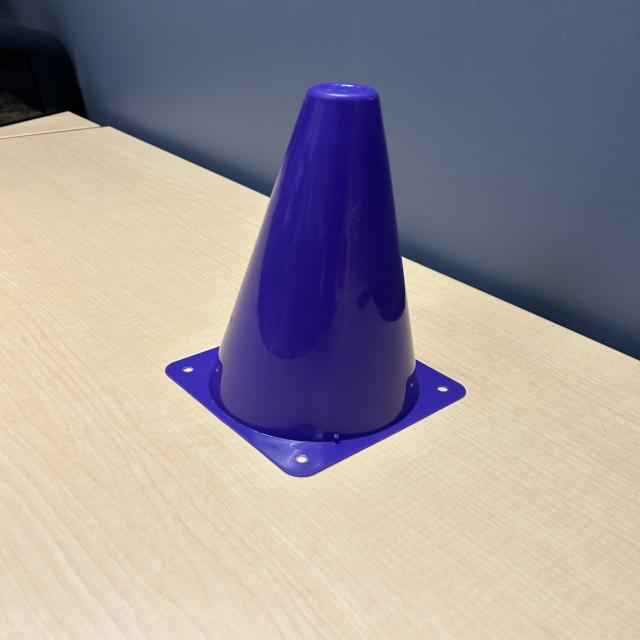purple cone: (160, 78, 476, 479)
